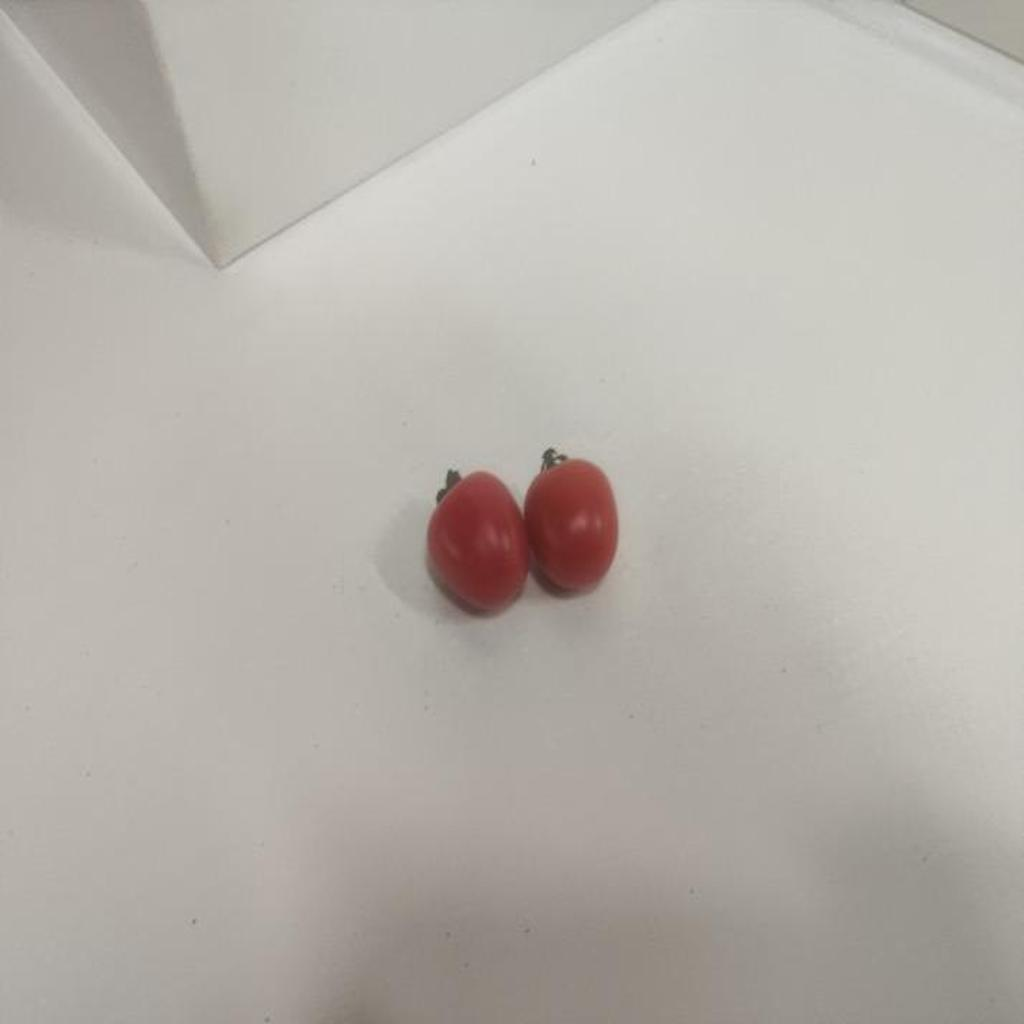tomato: (516, 442, 641, 597), (425, 472, 532, 616)
